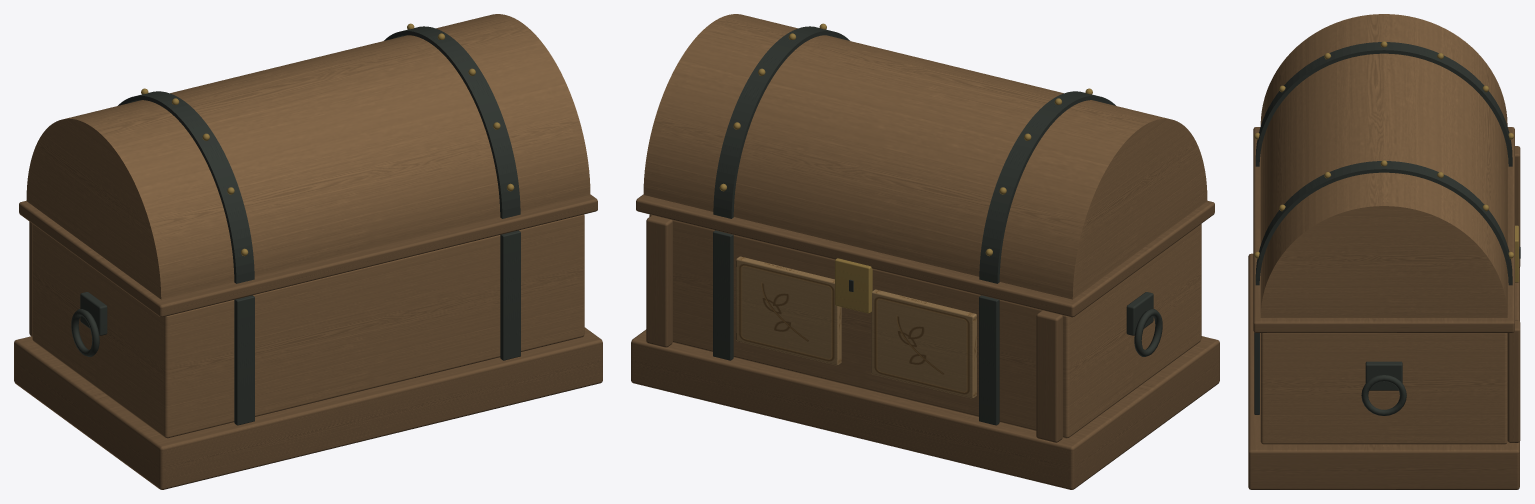
File: arcon.glb
The picture shows the model from 3 angles, left to right: view 1: azimuth 30°, elevation 25°; view 2: azimuth 150°, elevation 25°; view 3: azimuth 270°, elevation 25°; orthographic projection. The views are drawn at different scales.
Parts seen in each view (by area): view 1: arcon; view 2: arcon; view 3: arcon.
Boxes of the visible parts, box(x1,y1,x2,y2) form: arcon: box(14, 14, 602, 489); arcon: box(631, 14, 1219, 489); arcon: box(1248, 14, 1520, 489).
Size of the model in its own units: 0.9681 by 0.65 by 0.5515.
Materials: 1 (1 with a texture image).
